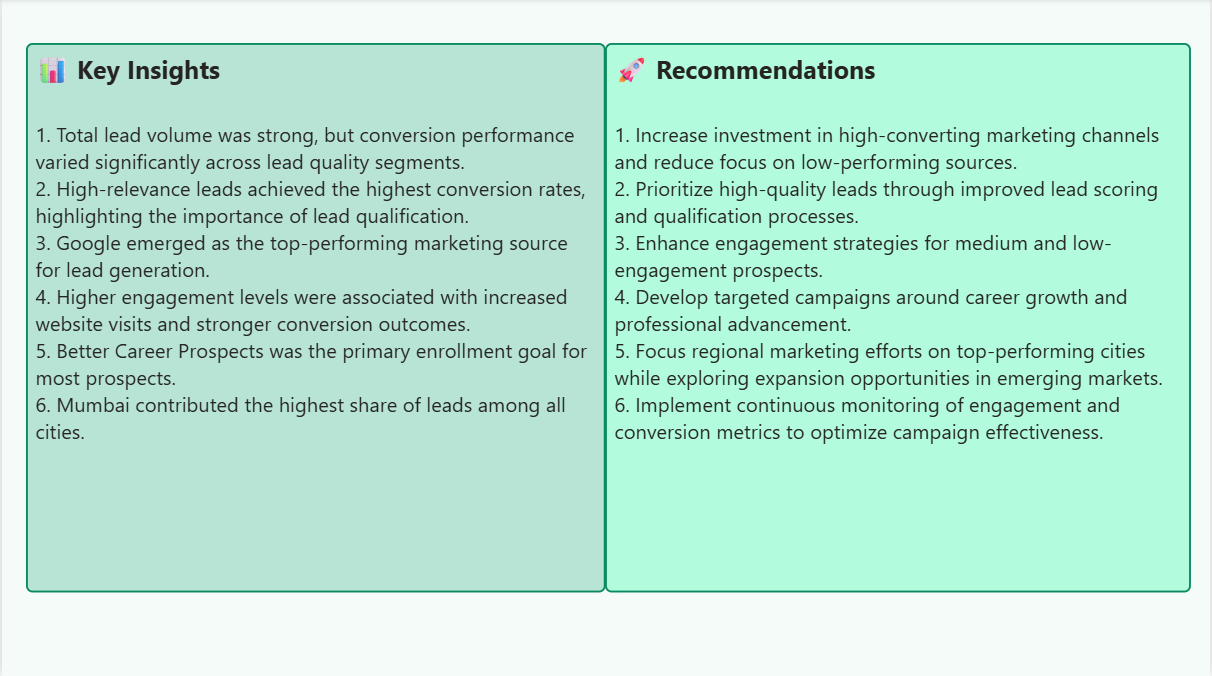

The page's visual inventory and layout, read from the dashboard file:
{"tool":"powerbi","page":{"name":"Business Insights & Action Plan","canvas":[1280,720],"ordinal":4},"visuals":[{"type":"textbox","box":[25.1,48.4,614.7,582.9],"z":0},{"type":"textbox","box":[639.7,48.4,621.4,582.9],"z":1000}]}

Visuals, with their boxes in screenshot pixels (x1, y1, x2, y2), scaled from the page's 1280x720 canvas onto the 1212x676 screenshot:
textbox: box(24, 45, 606, 593)
textbox: box(606, 45, 1194, 593)
